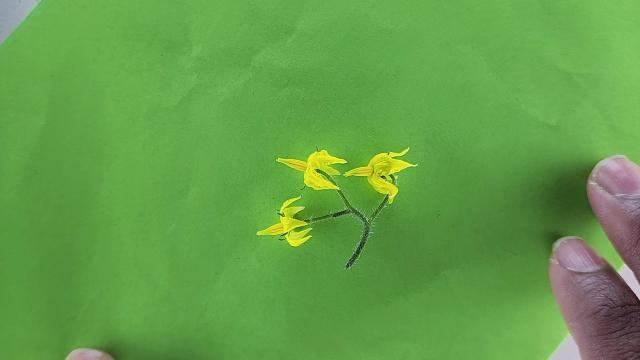Anthesis: (342, 148, 420, 204), (276, 147, 348, 194), (255, 195, 313, 248)
